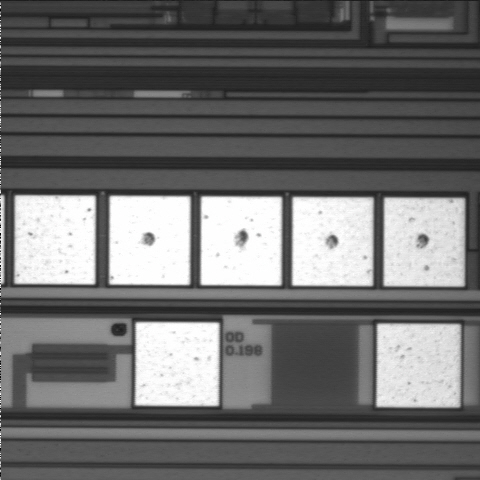pad: (201, 196, 282, 286), (15, 195, 96, 284), (109, 196, 190, 285), (292, 197, 373, 286), (135, 322, 219, 406), (384, 198, 464, 286), (377, 324, 460, 407)
